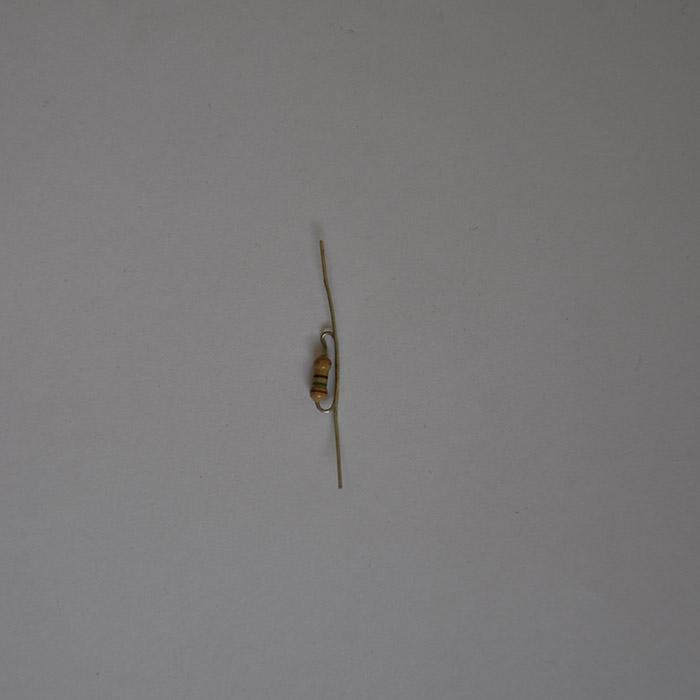resistor: (308, 341, 334, 406)
